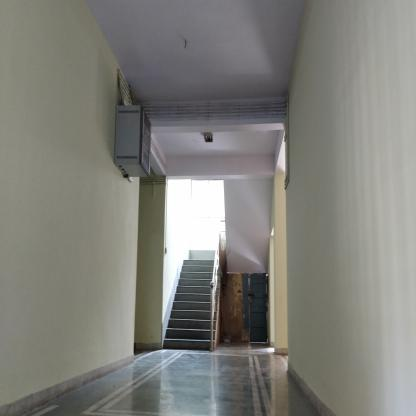stairs: (184, 258, 211, 356)
